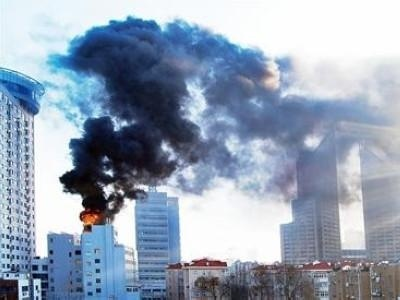fire: (80, 208, 100, 224)
